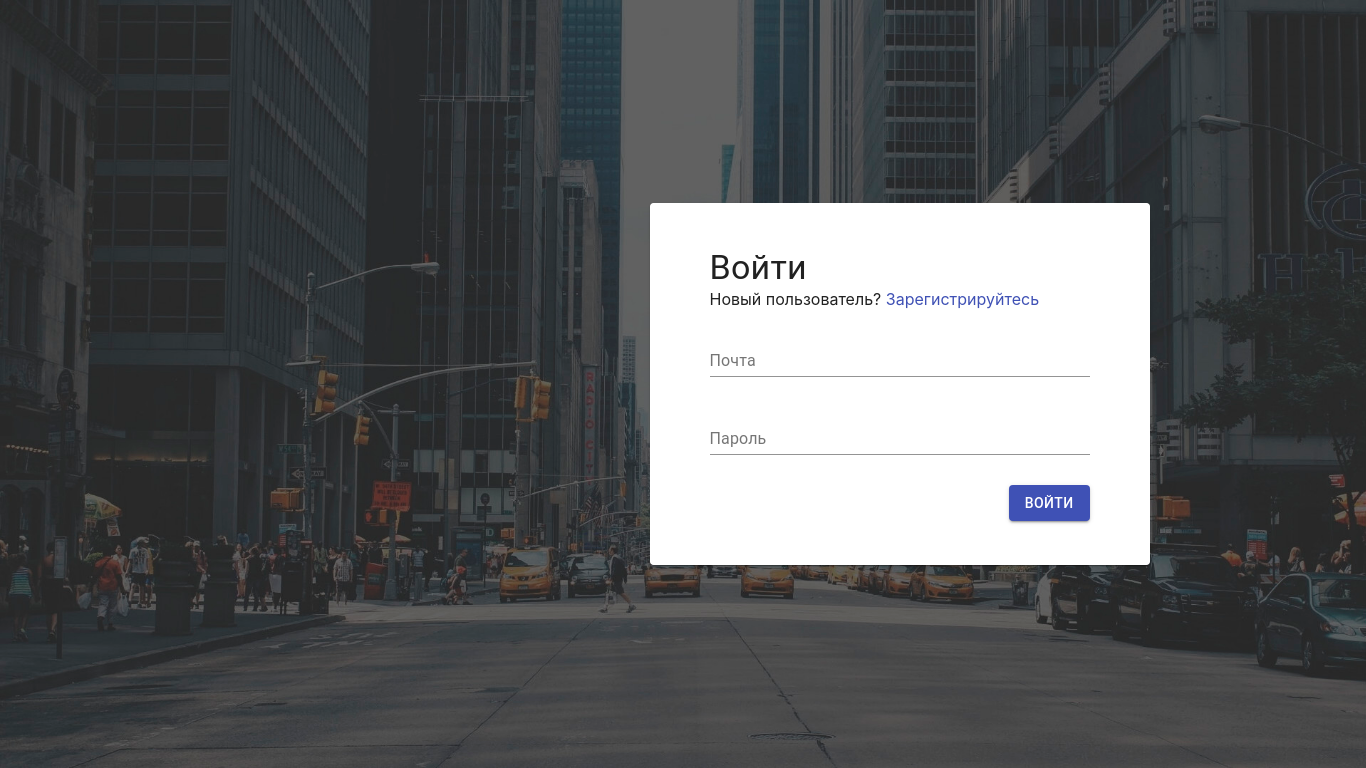
app.js › click link -> change registration/login
Click the link with test id "linkRegistration" at (962, 299), box top-left (886, 289), bottom-right (1039, 309)
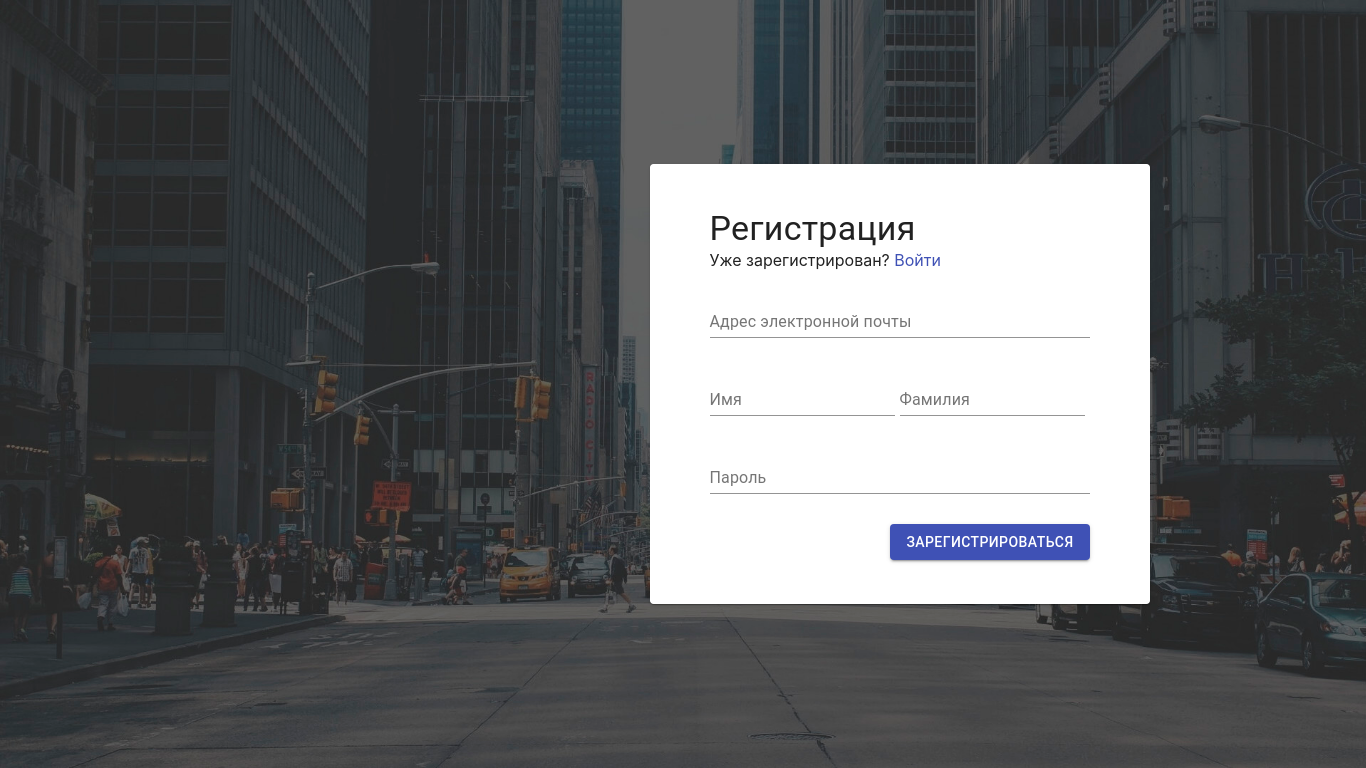
Expected: the element with test id "registration" is shown
Click the link with test id "linkLogin" at (918, 260), box top-left (894, 250), bottom-right (941, 270)
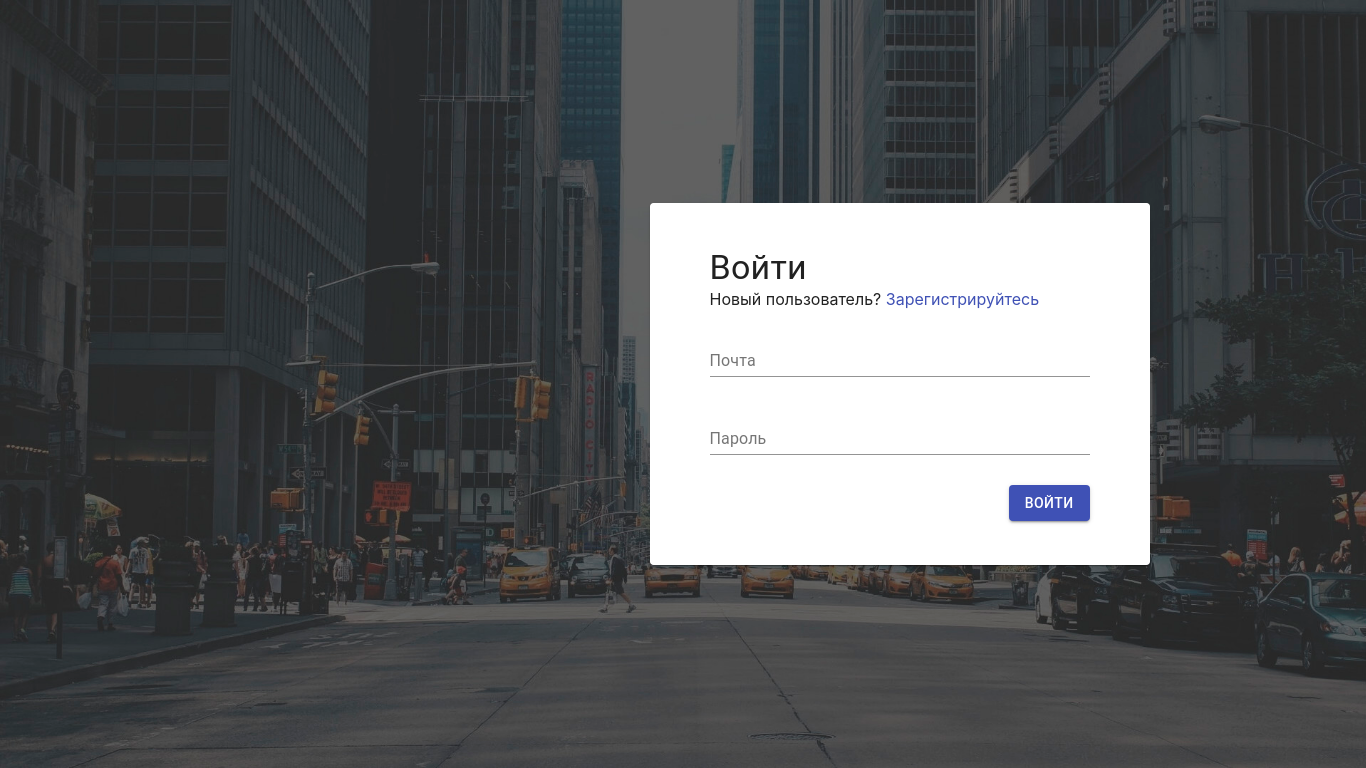
Expected: the element with test id "login" is shown
